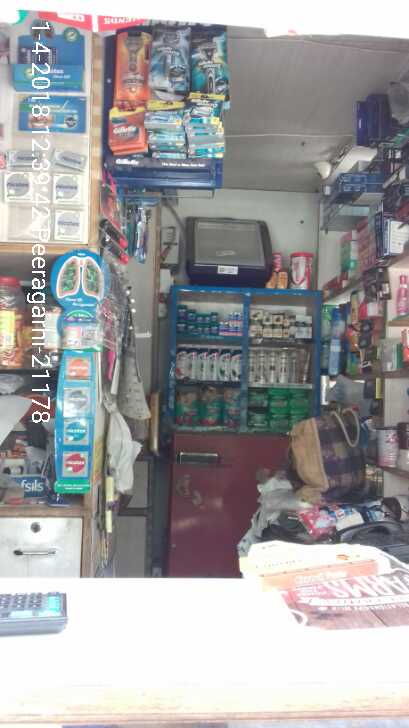vicks: (178, 304, 244, 337)
